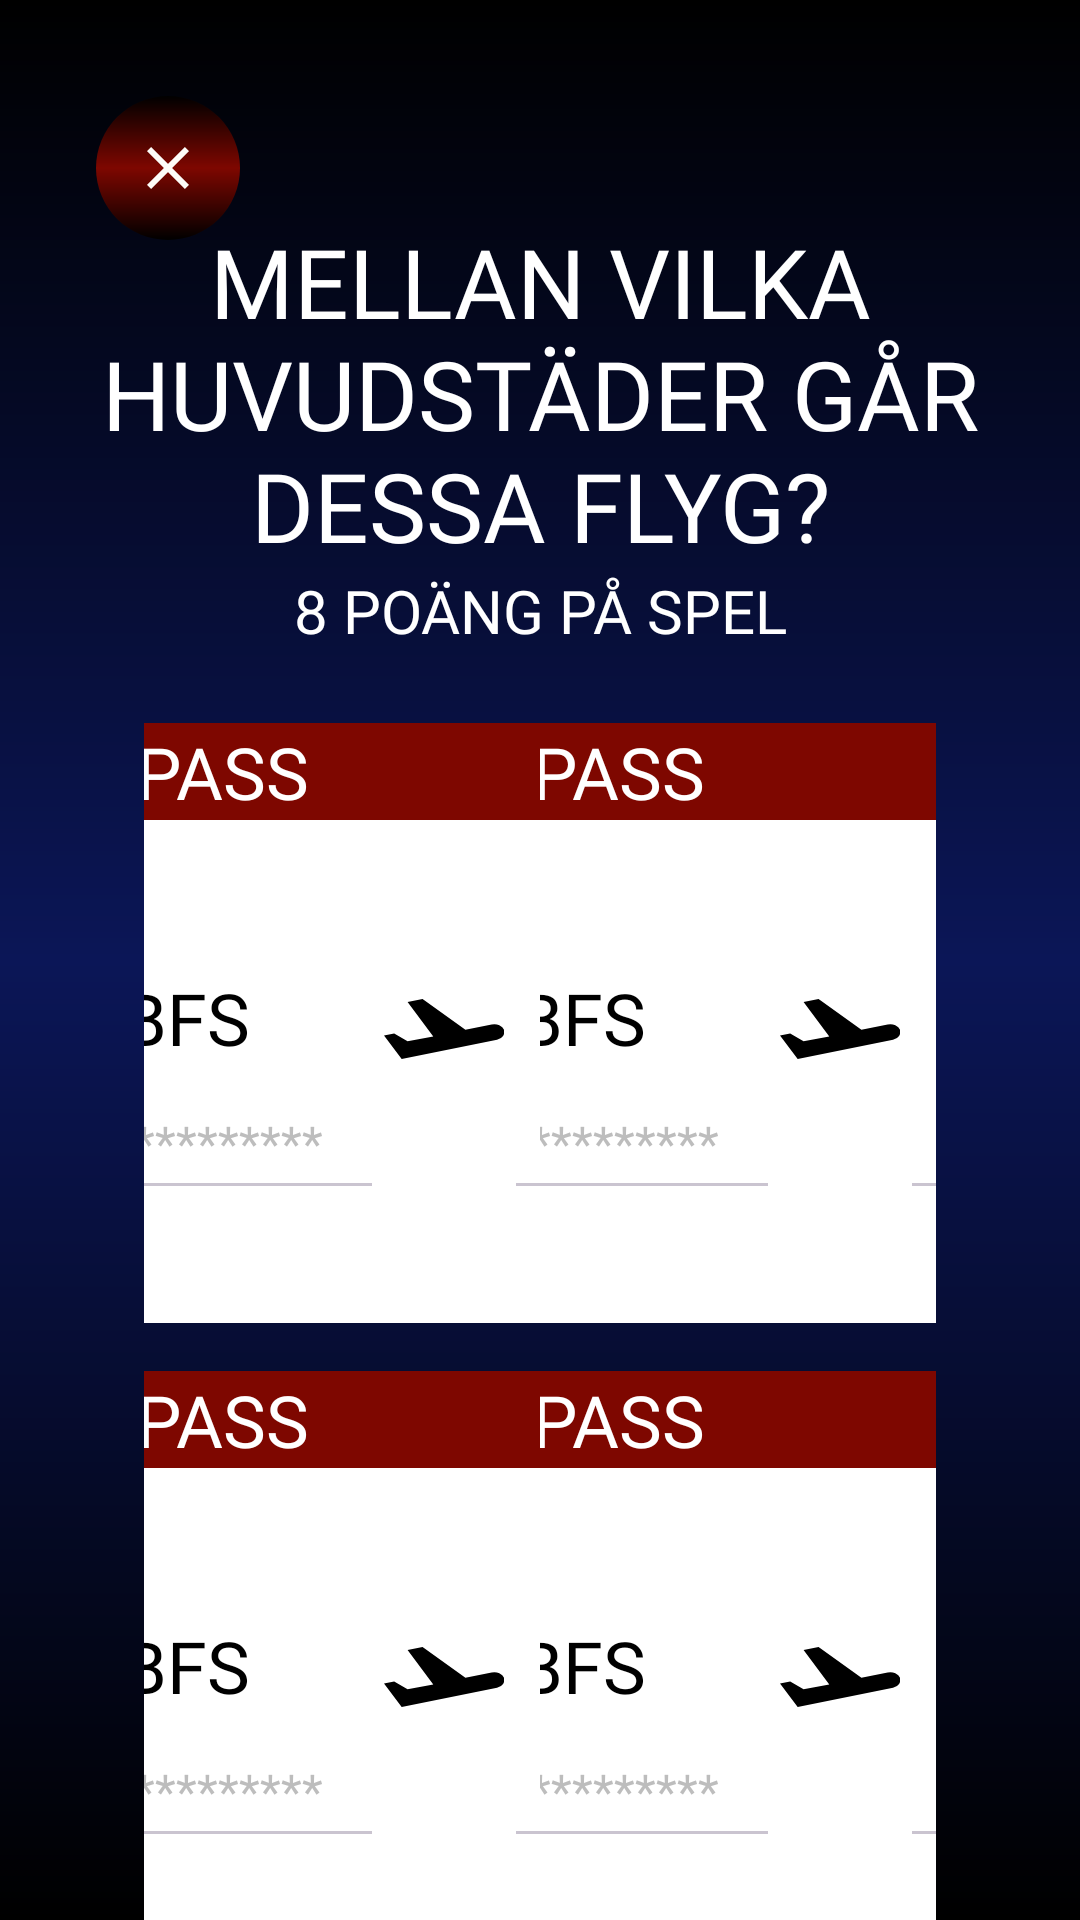

Icons on this 1080 × 1920 Android screen, each with the point to tap as (x=x, y=y):
close: (x=168, y=168)
plane: (x=444, y=1029), (x=840, y=1029), (x=444, y=1677), (x=840, y=1677)
